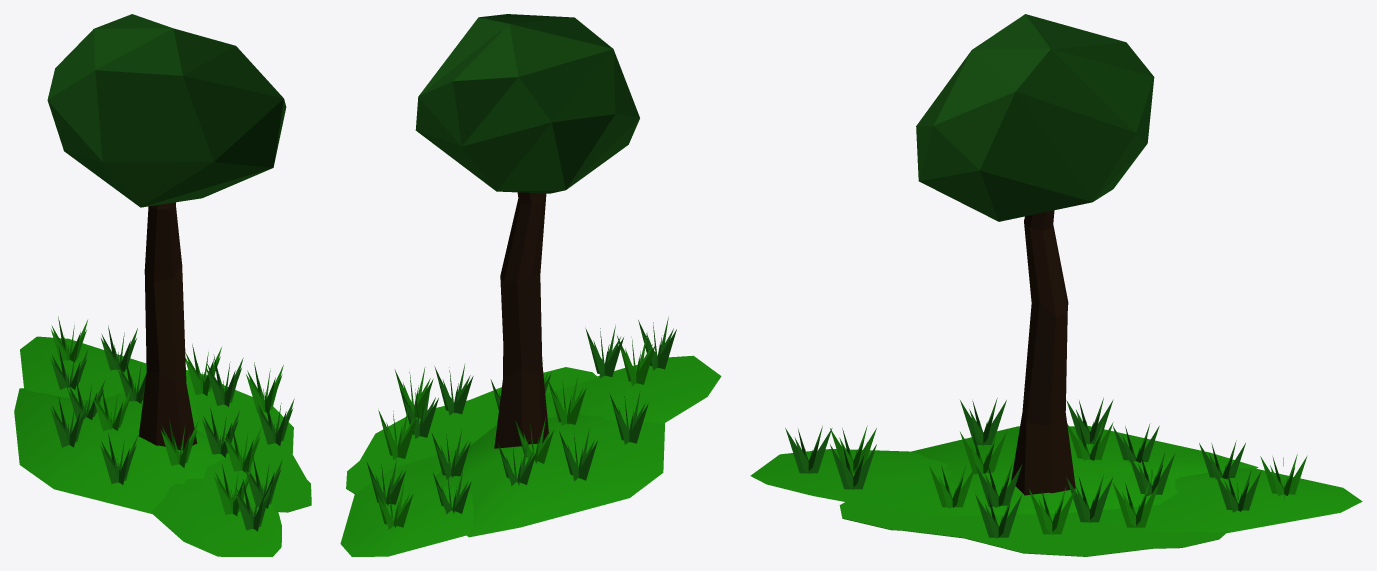
The model's file is tree1.obj.
The picture shows the model from 3 angles, left to right: view 1: azimuth 30°, elevation 25°; view 2: azimuth 150°, elevation 25°; view 3: azimuth 270°, elevation 25°; orthographic projection. The views are drawn at different scales.
Parts seen in each view (by area): view 1: Tron, ChamferCyl001, ChamferCyl002, Box009, ChamferCyl003, Plane_042, Plane_036, Plane_046, Plane_040, Plane_041, Plane_019, Plane_043 (+11 smaller); view 2: Tron, ChamferCyl001, ChamferCyl003, ChamferCyl002, Box009, Plane_035, Plane_042, Plane_045, Plane_044, Plane_041, Plane_019, Plane_036 (+9 smaller); view 3: Tron, ChamferCyl001, Box009, ChamferCyl003, ChamferCyl002, Plane_040, Plane_044, Plane_036, Plane_046, Plane_035, Plane_042, Plane_019 (+8 smaller).
Part boxes in pixels (x1,y1,x2,y2): Tron: [47, 14, 286, 450]; ChamferCyl001: [14, 388, 229, 513]; ChamferCyl002: [151, 456, 281, 556]; Box009: [186, 370, 311, 512]; ChamferCyl003: [20, 336, 201, 432]; Plane_042: [100, 432, 137, 484]; Plane_036: [205, 354, 243, 406]; Plane_046: [234, 480, 272, 531]; Plane_040: [246, 362, 283, 412]; Plane_041: [50, 397, 88, 447]; Plane_019: [256, 396, 294, 445]; Plane_043: [161, 417, 198, 467]; Tron: [415, 14, 639, 448]; ChamferCyl001: [434, 413, 664, 537]; ChamferCyl003: [340, 445, 474, 556]; ChamferCyl002: [495, 355, 721, 425]; Box009: [346, 367, 598, 495]; Plane_035: [378, 407, 416, 459]; Plane_042: [610, 391, 648, 444]; Plane_045: [617, 333, 655, 385]; Plane_044: [585, 324, 623, 378]; Plane_041: [559, 428, 597, 481]; Plane_019: [434, 363, 473, 415]; Plane_036: [400, 386, 438, 438]; Tron: [916, 14, 1154, 495]; ChamferCyl001: [911, 426, 1258, 514]; Box009: [839, 500, 1227, 556]; ChamferCyl003: [1067, 468, 1362, 532]; ChamferCyl002: [750, 449, 1004, 516]; Plane_040: [1029, 486, 1075, 534]; Plane_044: [830, 442, 876, 490]; Plane_036: [1066, 474, 1113, 522]; Plane_046: [785, 425, 832, 473]; Plane_035: [1112, 481, 1159, 528]; Plane_042: [960, 398, 1006, 445]; Plane_019: [975, 492, 1022, 538].
Size of the model in its own units: 133 by 215 by 263.
